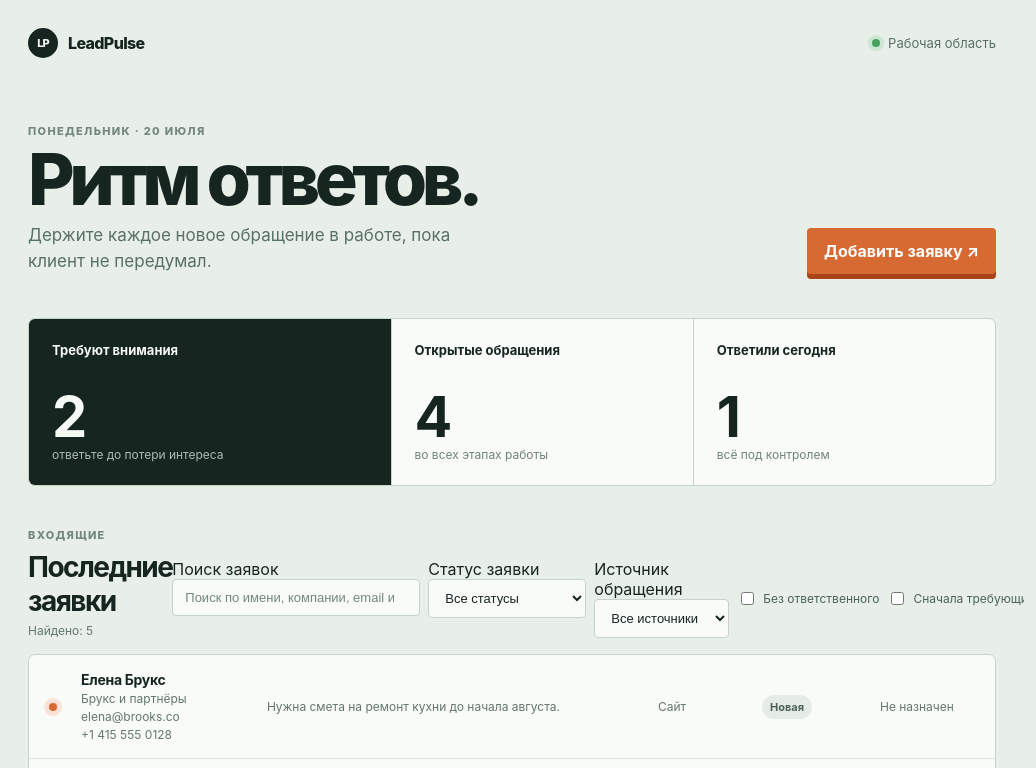
it: filters leads by phone number
Type "917 555 0172" into the search field at (296, 598), box [172,579,420,616]
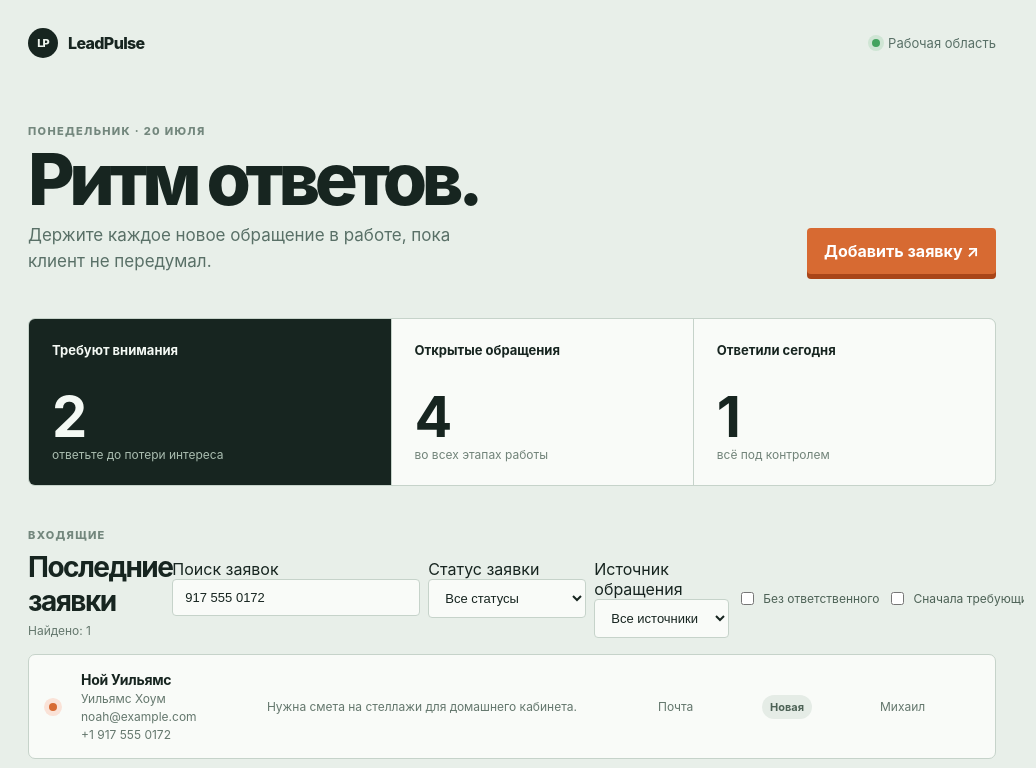
Expected: the text "Ной Уильямс" is shown, [81,671,171,688]
Result: the text "Елена Брукс" is gone
